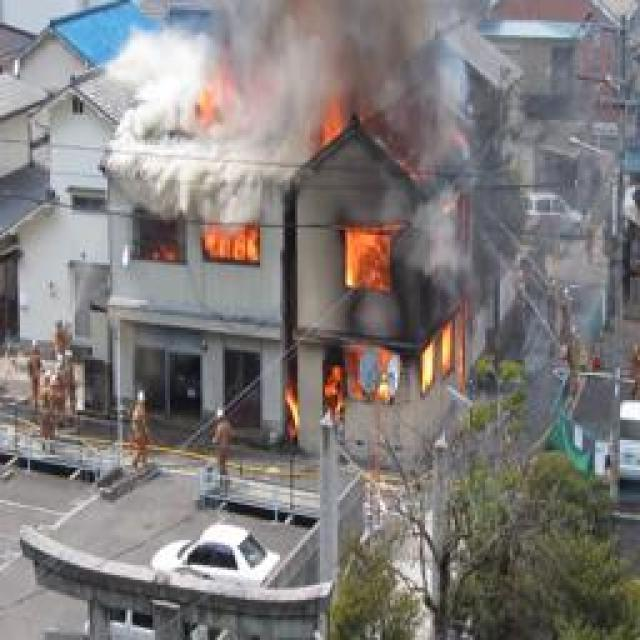Fire: (279, 80, 483, 445), (199, 228, 260, 266)
